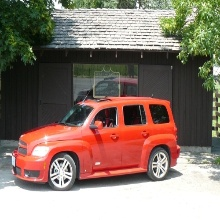no damage: (11, 95, 181, 189)
